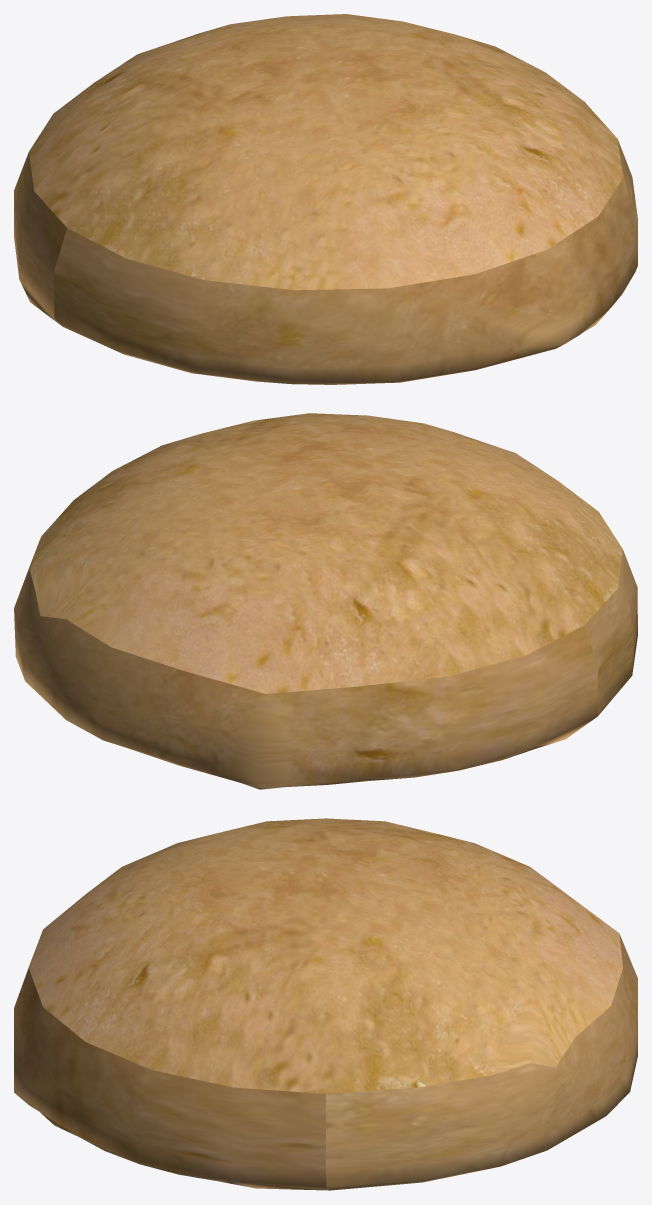
File: Upper_bun.fbx
The picture shows the model from 3 angles, top to bottom: view 1: azimuth 30°, elevation 25°; view 2: azimuth 150°, elevation 25°; view 3: azimuth 270°, elevation 25°; orthographic projection.
Visible parts, largest first — view 1: polySurface3; view 2: polySurface3; view 3: polySurface3.
Part boxes in pixels (box(x1,y1,x2,y2)): polySurface3: box(14, 14, 637, 384); polySurface3: box(14, 413, 637, 789); polySurface3: box(14, 818, 637, 1190).
Bounding box in the file's own units: 460 × 159 × 459.
